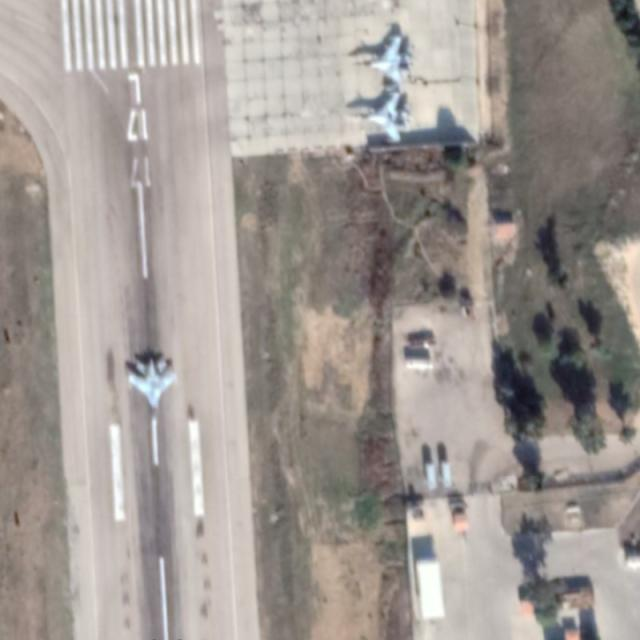fighter jet: (118, 347, 178, 410), (351, 28, 417, 80), (355, 91, 410, 137)
